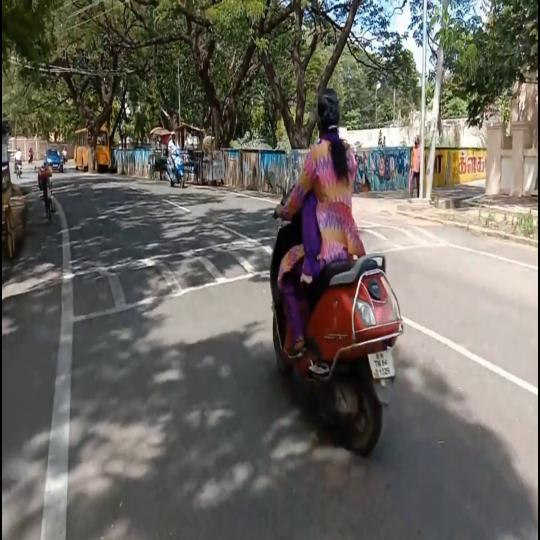Speed Bump: (0, 235, 270, 320), (362, 215, 470, 255)
